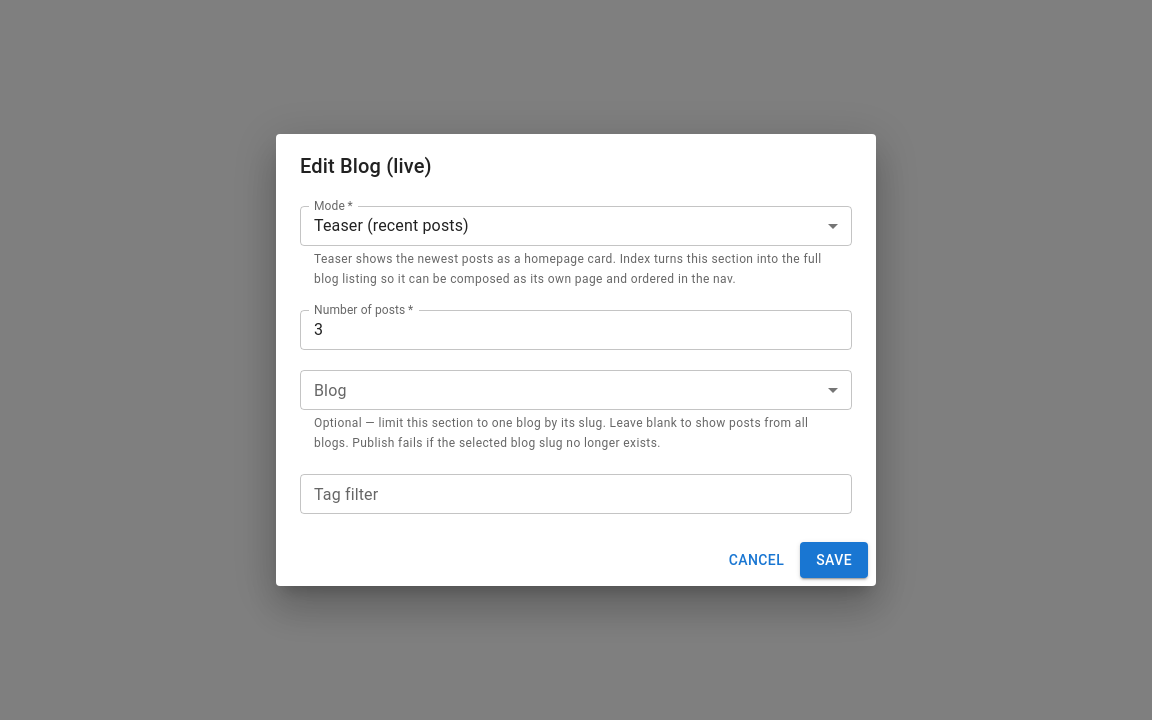
Scenario: SectionEditDialog — blog teaser/index mode (task #103) › switching to index hides "Number of posts" and shows "Posts per page"
Click the dropdown named "mode".
click(391, 226)  # box x1=314 y1=216 x2=469 y2=235
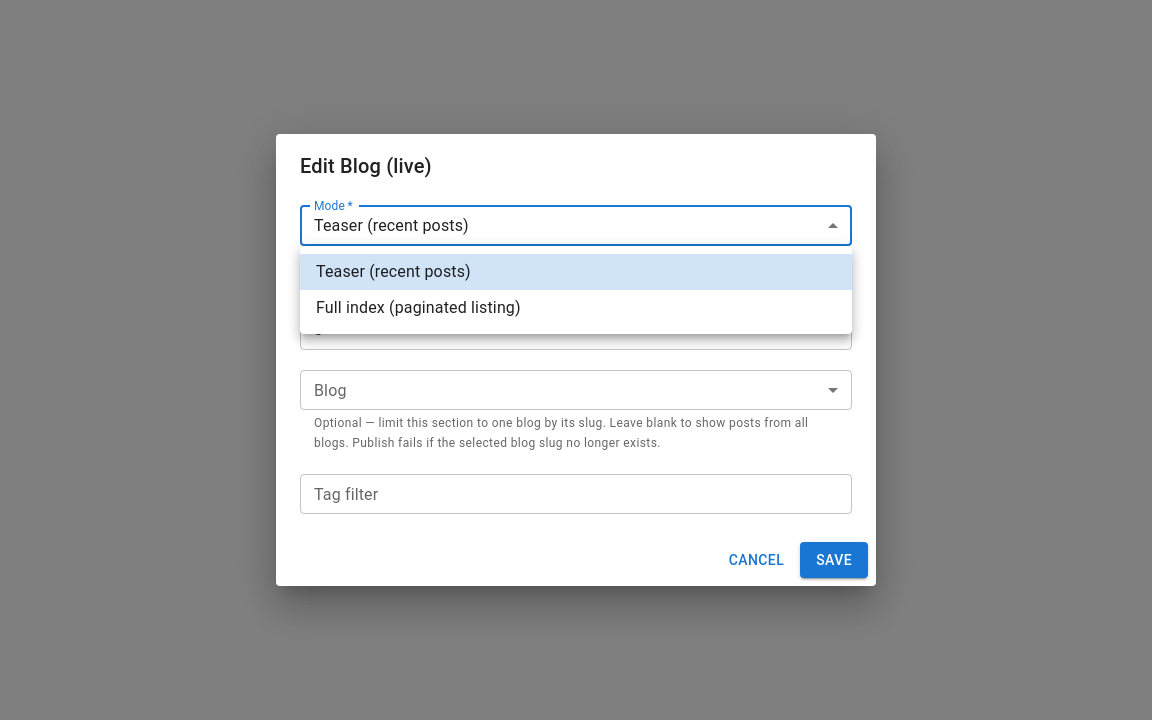
Click the option "Full index (paginated listing)".
click(418, 308)  # box x1=316 y1=298 x2=521 y2=317
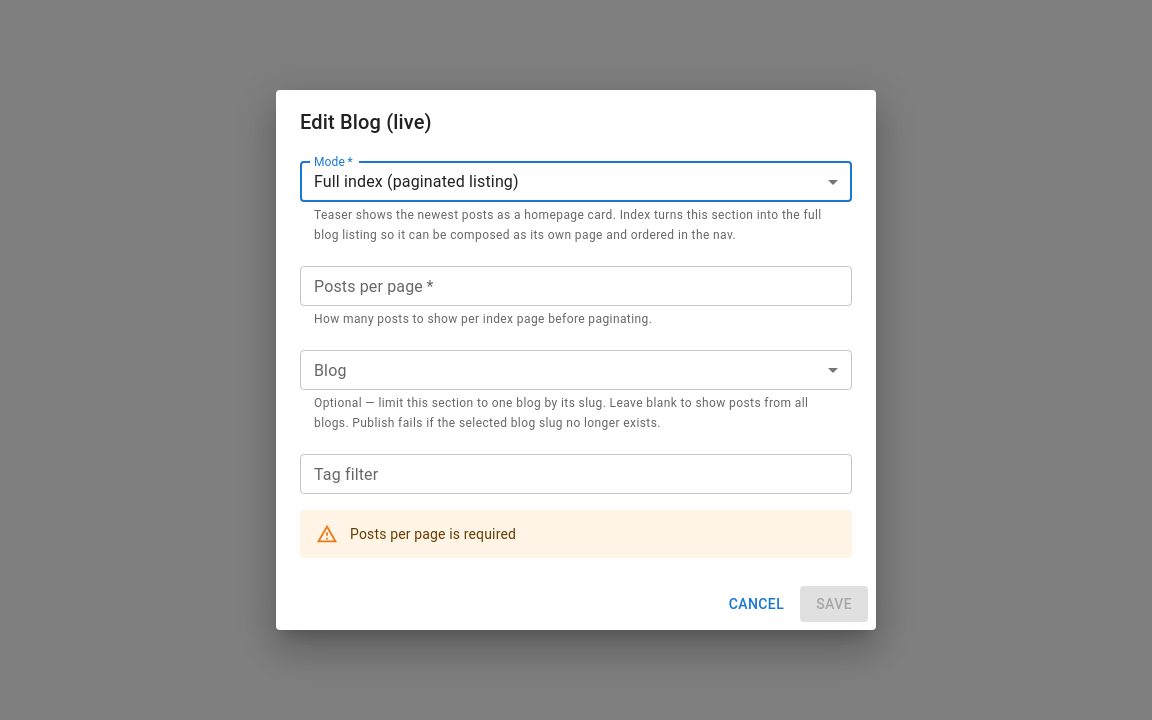
Now the text "Number of posts" is gone
Now the text "Posts per page" is shown, box x1=314 y1=277 x2=423 y2=296
